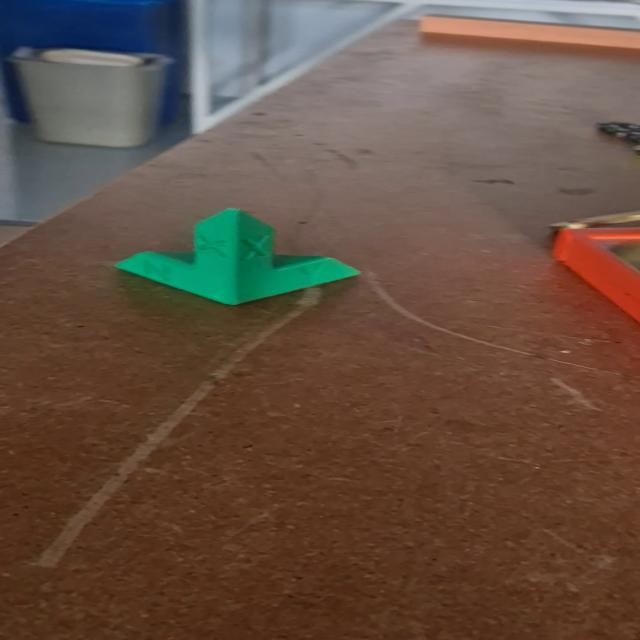objects: (112, 206, 364, 307)
